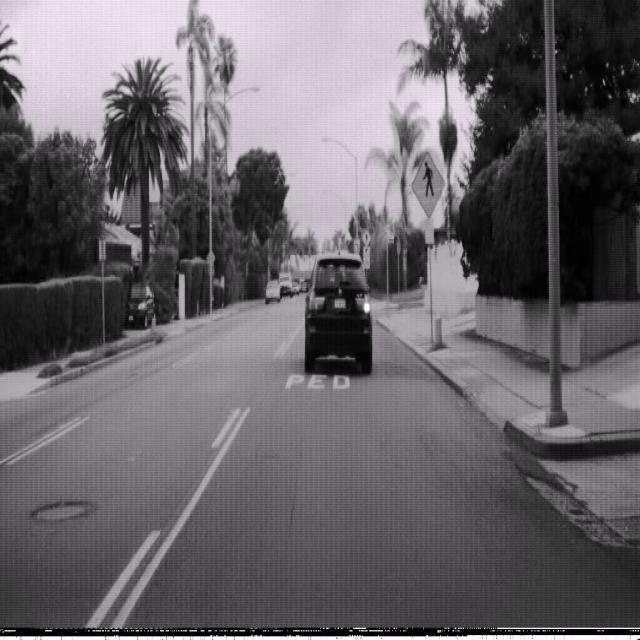pedestrianCrossing: (410, 150, 446, 220)
